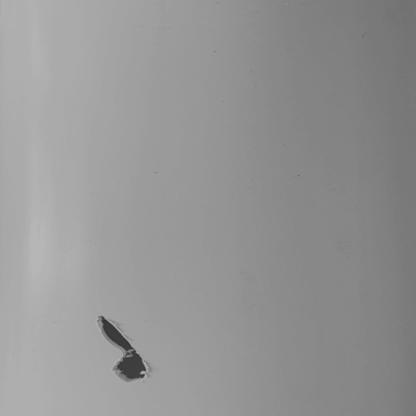kongdong: (97, 314, 148, 380)
